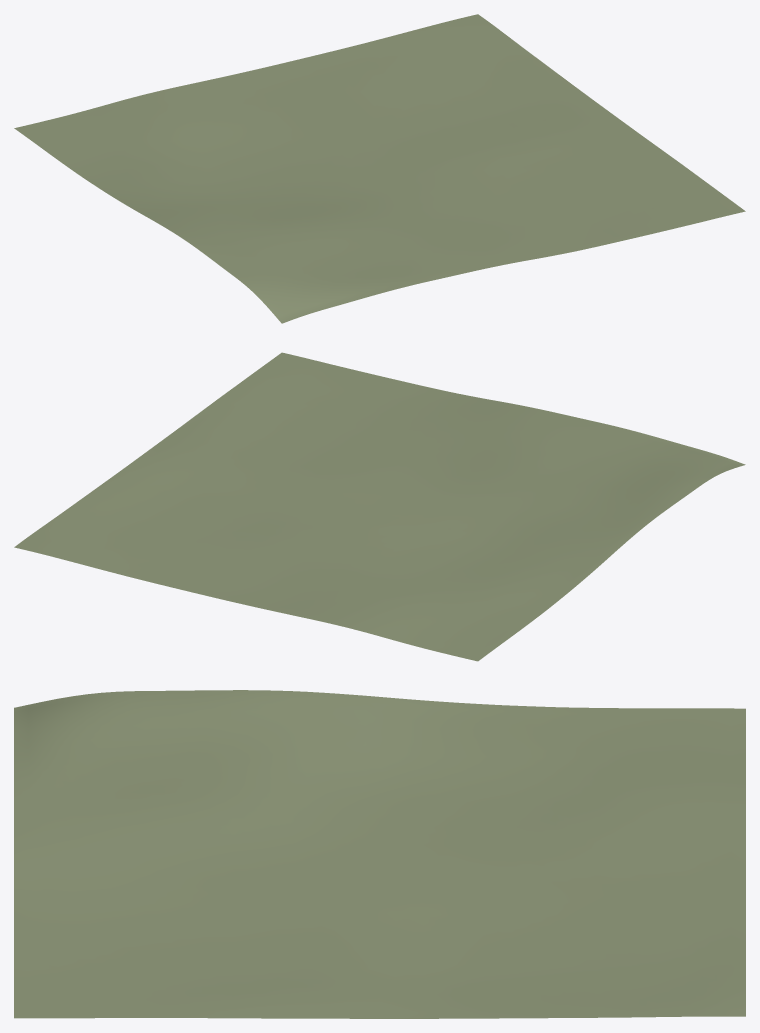
3 views of the same model, one above another, from view 1: azimuth 30°, elevation 25°; view 2: azimuth 150°, elevation 25°; view 3: azimuth 270°, elevation 25° (orthographic). The views are drawn at different scales.
Parts seen in each view (by area): view 1: ground; view 2: ground; view 3: ground.
Part boxes in pixels (x1,y1,x2,y2): ground: (14,14,745,323); ground: (14,352,745,661); ground: (14,690,745,1018).
Bounding box in the file's own units: 250 × 8.06 × 250.
